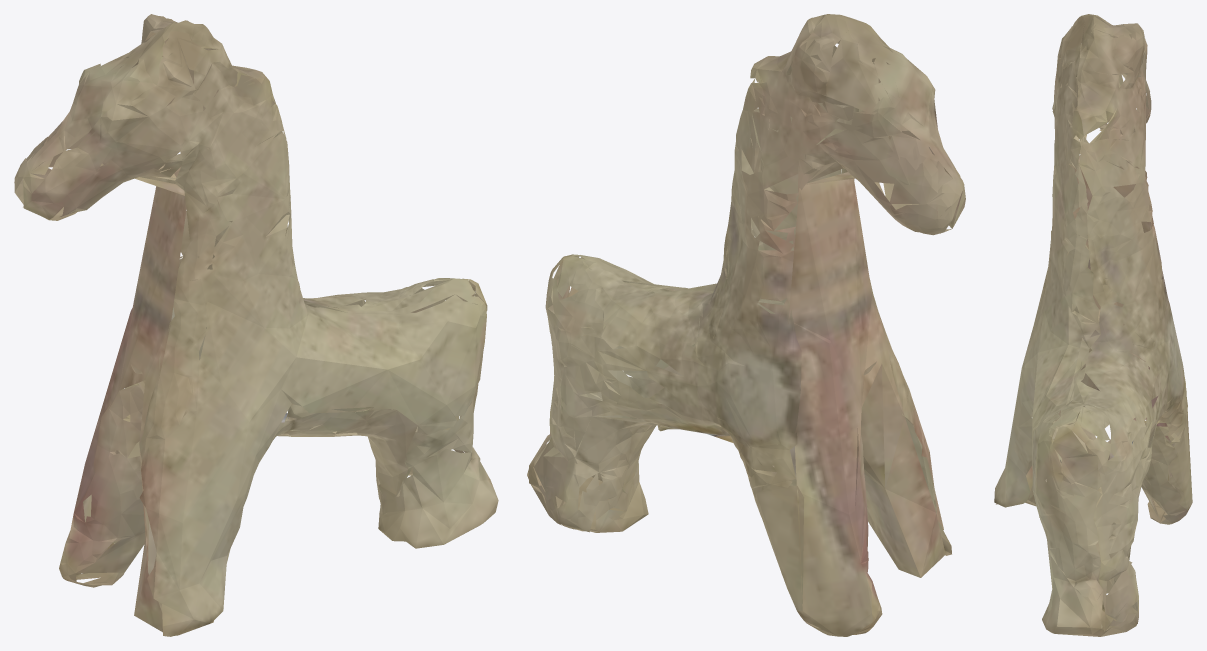
The model's file is sf-cypriot-horse.lod1.glb.
The picture shows the model from 3 angles, left to right: view 1: azimuth 30°, elevation 25°; view 2: azimuth 150°, elevation 25°; view 3: azimuth 270°, elevation 25°; orthographic projection. The views are drawn at different scales.
Parts seen in each view (by area): view 1: Object_5, Object_4, Object_2, Object_3, Object_6; view 2: Object_3, Object_2, Object_4, Object_6, Object_5; view 3: Object_3, Object_4, Object_5, Object_2, Object_6.
Part boxes in pixels (x1,y1,x2,y2): Object_5: (46, 38, 498, 636); Object_4: (14, 14, 486, 518); Object_2: (59, 164, 417, 636); Object_3: (14, 63, 476, 573); Object_6: (30, 18, 400, 543); Object_3: (534, 79, 962, 532); Object_2: (622, 172, 945, 636); Object_4: (529, 14, 965, 531); Object_6: (558, 14, 961, 610); Object_5: (527, 40, 951, 555); Object_3: (1072, 47, 1187, 623); Object_4: (1040, 14, 1159, 631); Object_5: (994, 23, 1135, 636); Object_2: (996, 129, 1192, 563); Object_6: (1084, 16, 1192, 614).
Bounding box in the file's own units: 0.1128 × 0.1389 × 0.048.
Materials: 1 (1 with a texture image).
